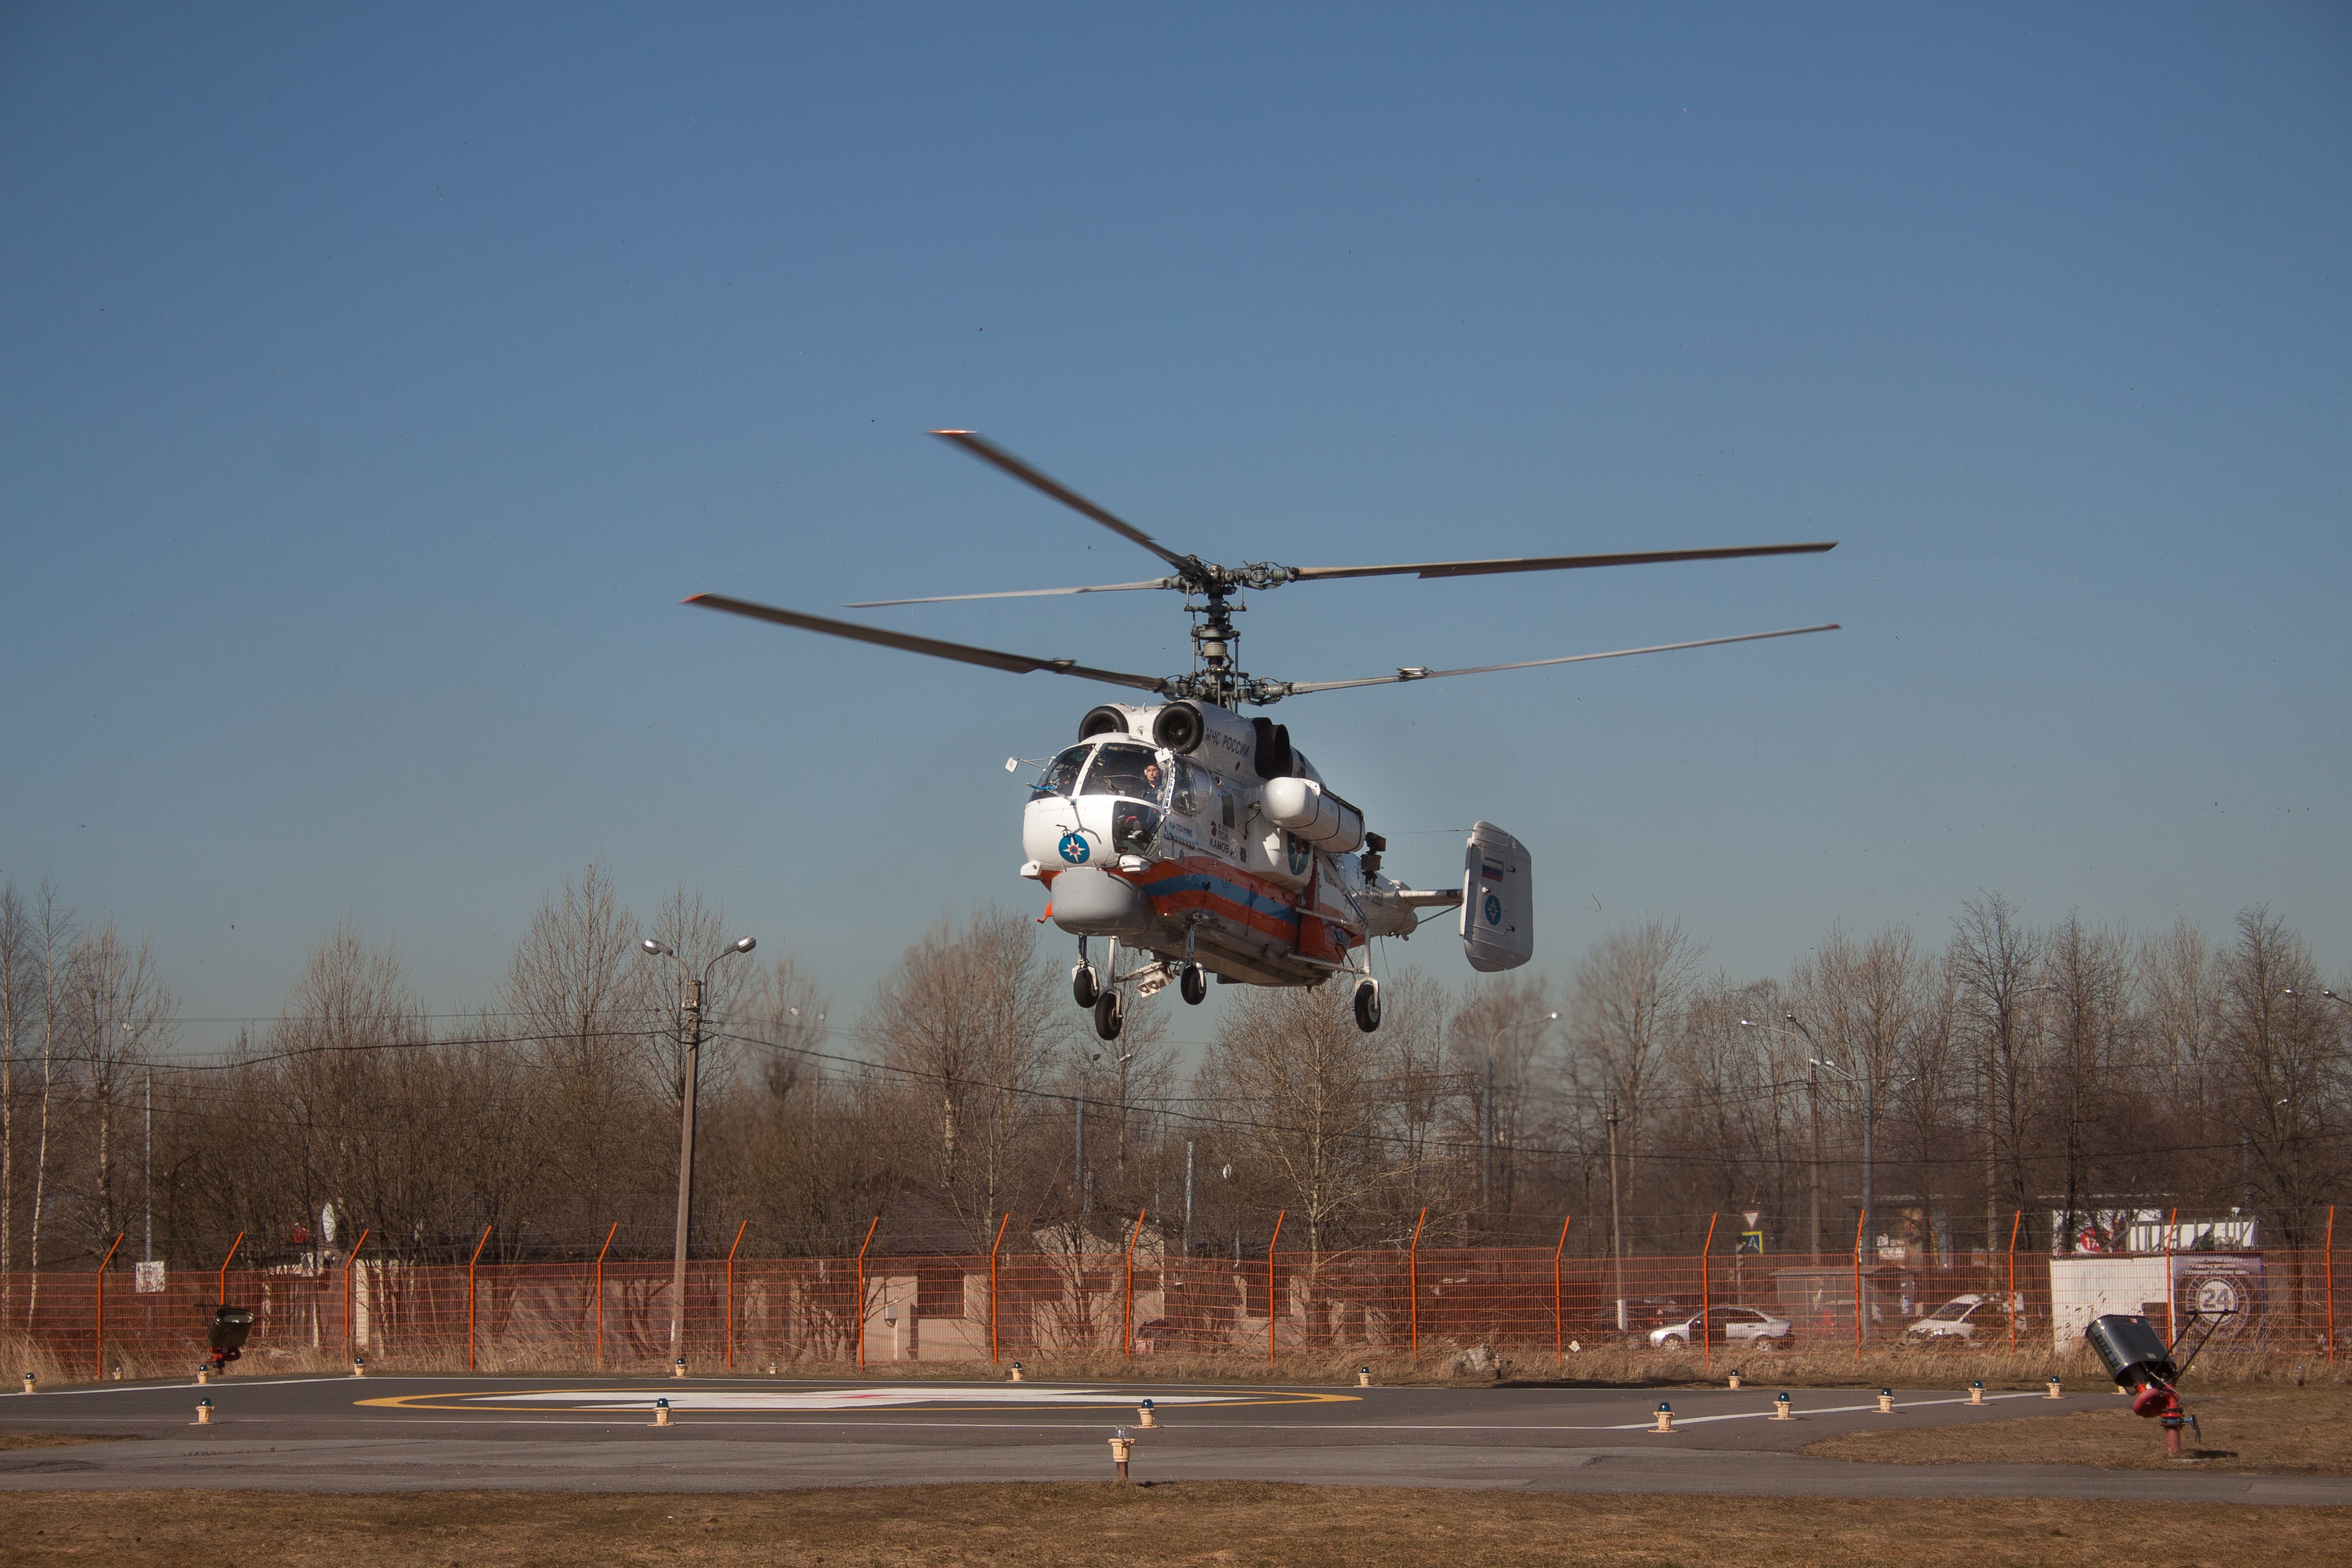helicopter: (476, 317, 2014, 1064)
